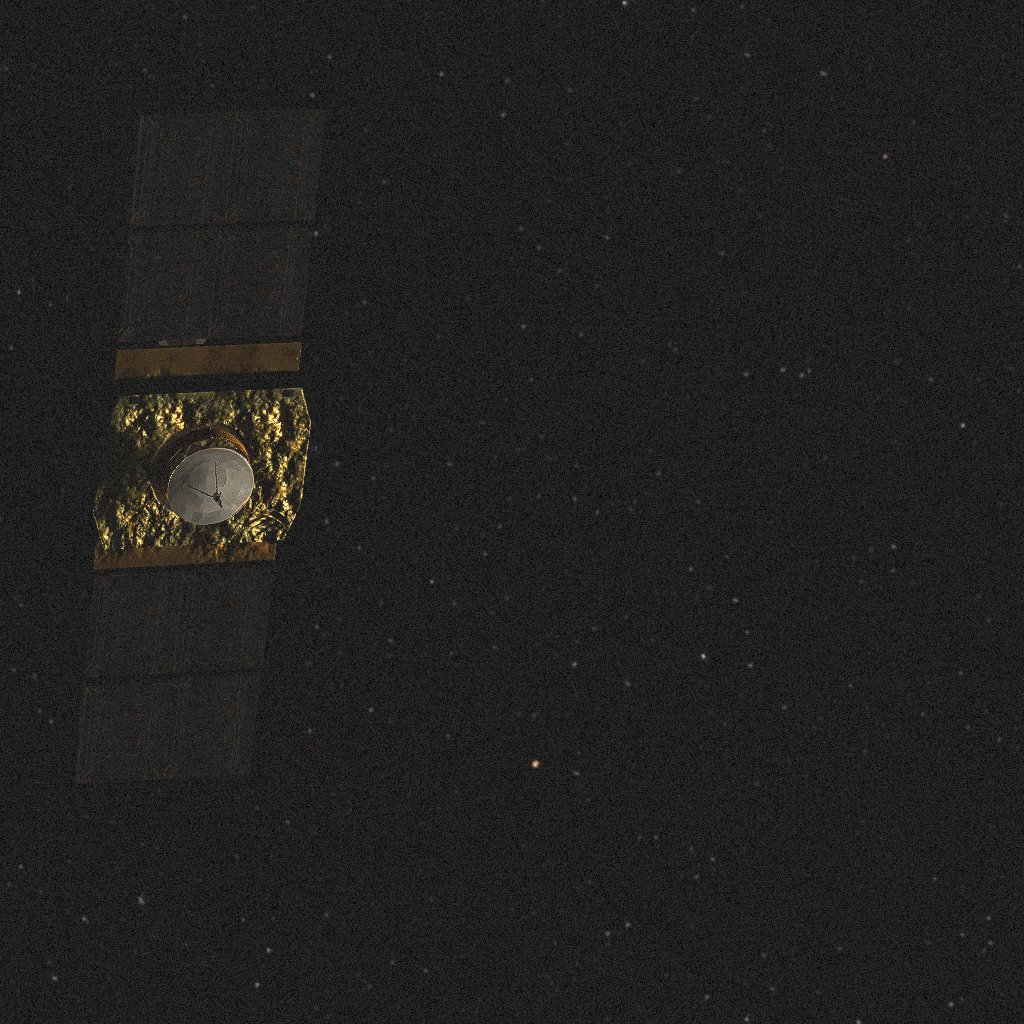soho: (75, 106, 340, 796)
